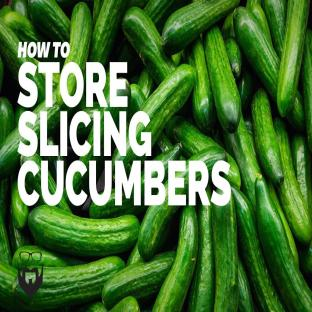Cucumber: (255, 177, 311, 311), (232, 187, 284, 311), (13, 257, 124, 310), (73, 89, 127, 194), (29, 206, 139, 256), (153, 205, 198, 311), (136, 65, 194, 147), (274, 119, 311, 244), (234, 7, 280, 101), (161, 0, 239, 54), (102, 252, 175, 309), (122, 8, 175, 84), (205, 26, 241, 133), (224, 117, 260, 207), (252, 88, 283, 187), (188, 202, 215, 311), (185, 38, 216, 132), (213, 196, 238, 311), (89, 171, 147, 218), (267, 182, 299, 266), (88, 0, 129, 65), (176, 147, 227, 194), (166, 116, 219, 159), (0, 20, 34, 81), (64, 3, 92, 75), (135, 0, 187, 33), (12, 246, 84, 269), (291, 136, 311, 217), (4, 12, 47, 44), (21, 154, 45, 205), (0, 261, 23, 311), (302, 29, 311, 150), (9, 210, 32, 253), (77, 102, 100, 141), (250, 4, 272, 42), (11, 181, 28, 230), (238, 257, 253, 311), (237, 65, 254, 112), (156, 216, 177, 253), (43, 151, 66, 182), (127, 84, 146, 121), (225, 38, 241, 80), (0, 98, 14, 144), (0, 214, 11, 264), (138, 68, 154, 98), (110, 296, 140, 311), (126, 243, 144, 266), (154, 133, 173, 154), (299, 243, 311, 276), (248, 130, 259, 163), (11, 0, 29, 19), (15, 104, 29, 128), (222, 13, 234, 39), (93, 0, 104, 27), (78, 302, 107, 311), (172, 52, 184, 66), (244, 116, 253, 134), (0, 6, 11, 19), (0, 56, 4, 91), (52, 59, 62, 66)
